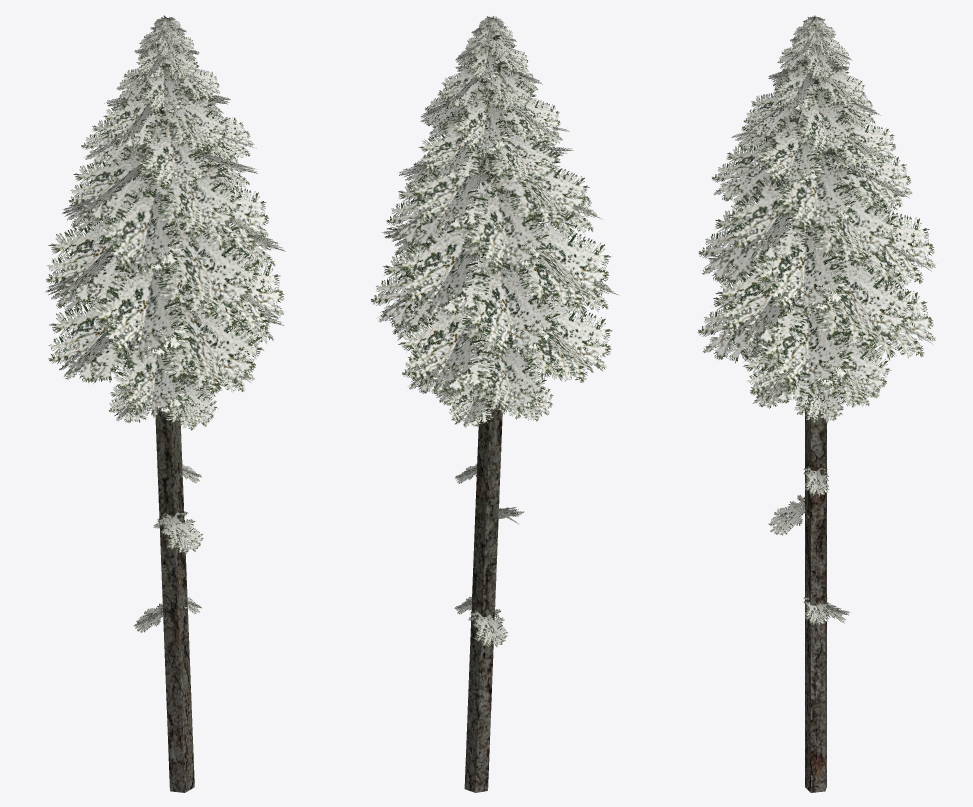
Rendered from abeto_nieve_c.glb.
3 renders of one model, left to right at view 1: azimuth 30°, elevation 25°; view 2: azimuth 150°, elevation 25°; view 3: azimuth 270°, elevation 25°, orthographic.
Visible parts, largest first — view 1: Modelo; view 2: Modelo; view 3: Modelo.
Part boxes in pixels (bbox=[...]): Modelo: bbox=[45, 15, 285, 792]; Modelo: bbox=[371, 16, 617, 792]; Modelo: bbox=[698, 15, 935, 792].
Size of the model in its own units: 2.65 by 7.82 by 2.62.
1 material, 1 textured.
